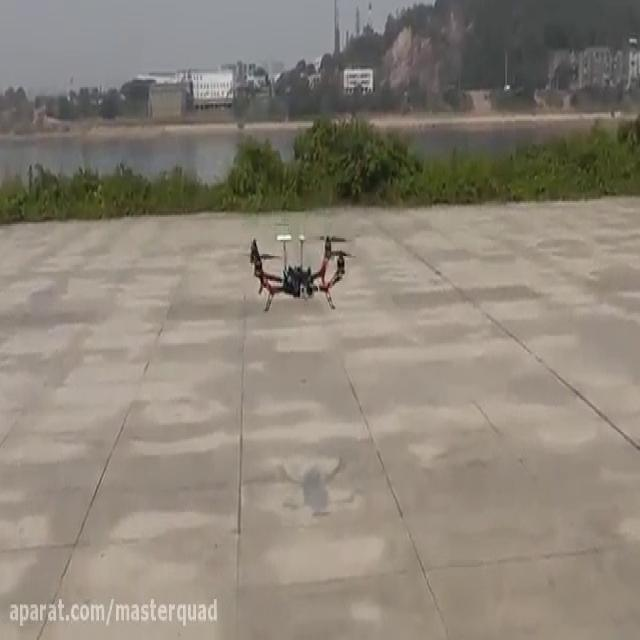drone: (246, 227, 358, 313)
